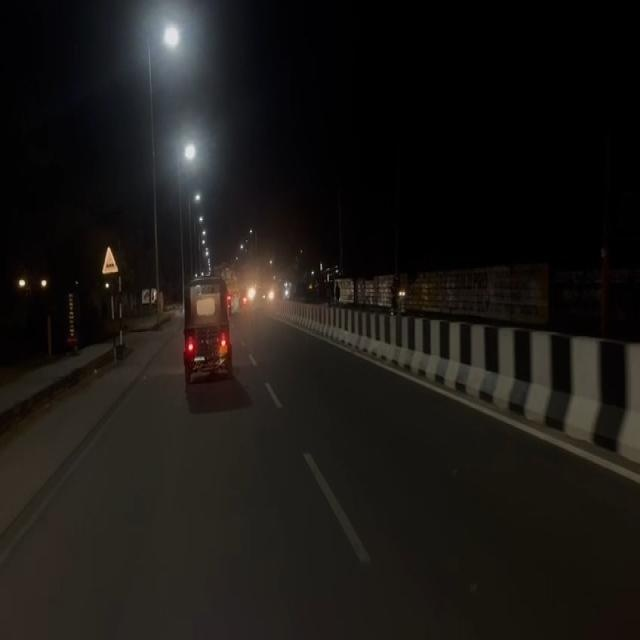bien_nguy_hiem: (102, 244, 119, 276)
